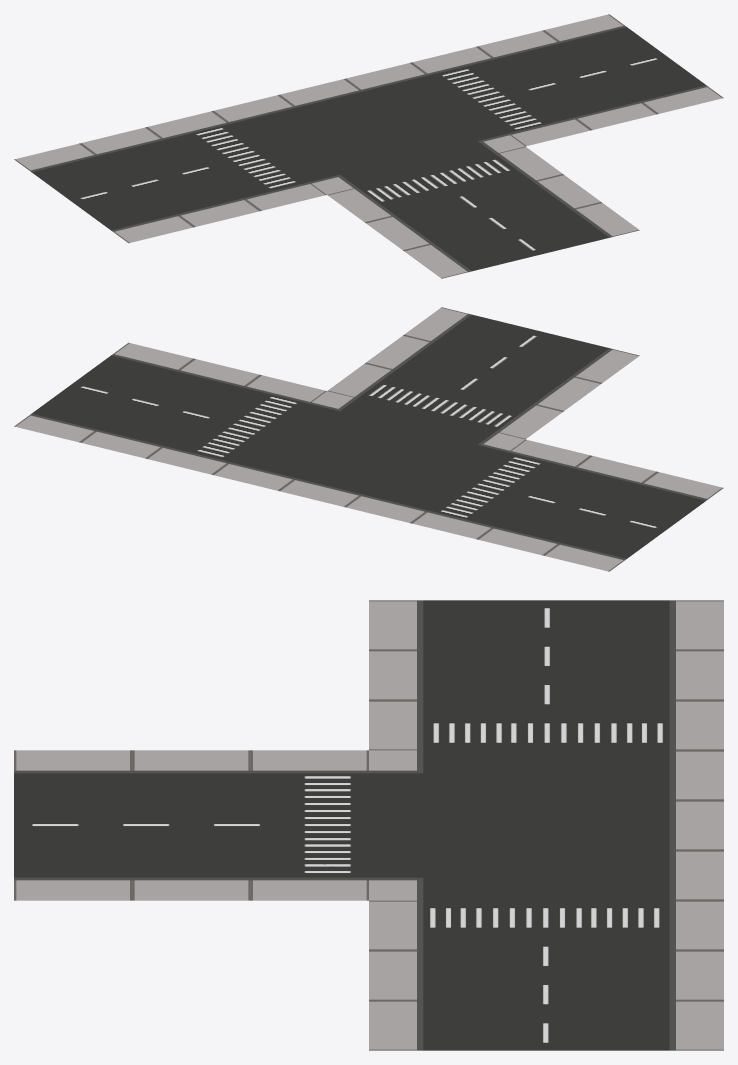
File: road cross2.FBX
The picture shows the model from 3 angles, top to bottom: view 1: azimuth 30°, elevation 25°; view 2: azimuth 150°, elevation 25°; view 3: azimuth 270°, elevation 25°; orthographic projection. The views are drawn at different scales.
Parts seen in each view (by area): view 1: road cross2; view 2: road cross2; view 3: road cross2.
Part boxes in pixels (x1,y1,x2,y2): road cross2: (14,14,723,278); road cross2: (14,307,723,571); road cross2: (14,600,723,1050).
Size of the model in its own units: 60 by 8.03e-06 by 40.
